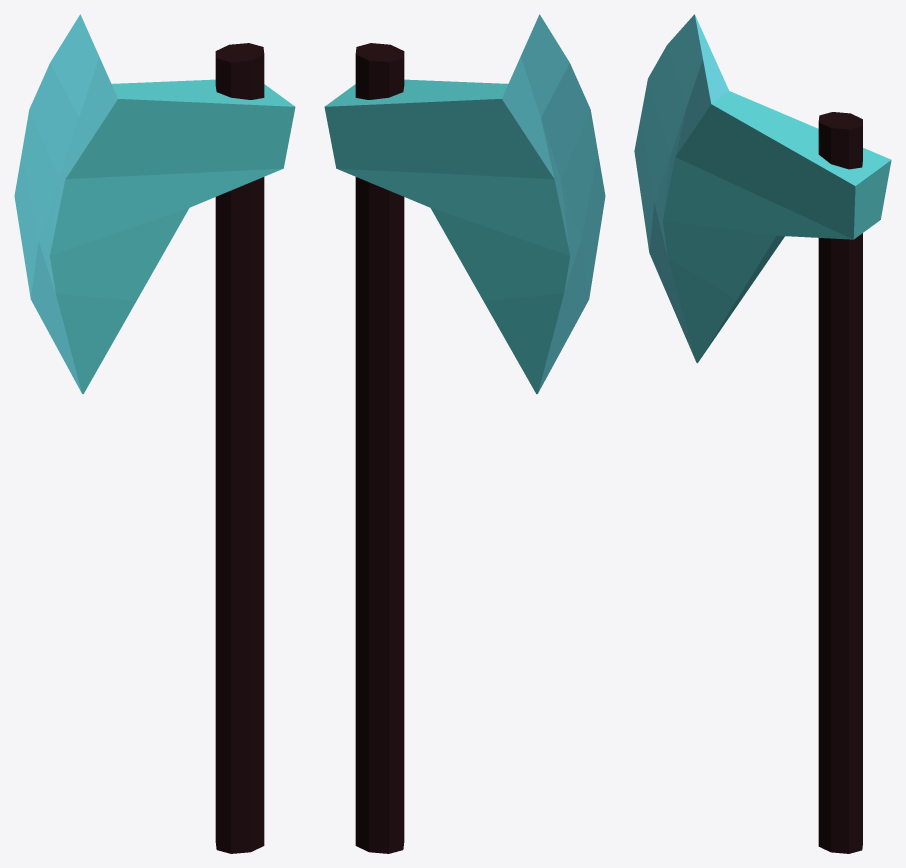
The model's file is Axe.fbx.
The picture shows the model from 3 angles, left to right: view 1: azimuth 30°, elevation 25°; view 2: azimuth 150°, elevation 25°; view 3: azimuth 330°, elevation 25°; orthographic projection. The views are drawn at different scales.
Parts seen in each view (by area): view 1: Axe; view 2: Axe; view 3: Axe.
Part boxes in pixels (box(x1,y1,x2,y2)): Axe: box(14, 14, 295, 853); Axe: box(324, 14, 605, 853); Axe: box(634, 14, 891, 853).
Size of the model in its own units: 188 by 598 by 49.17.
